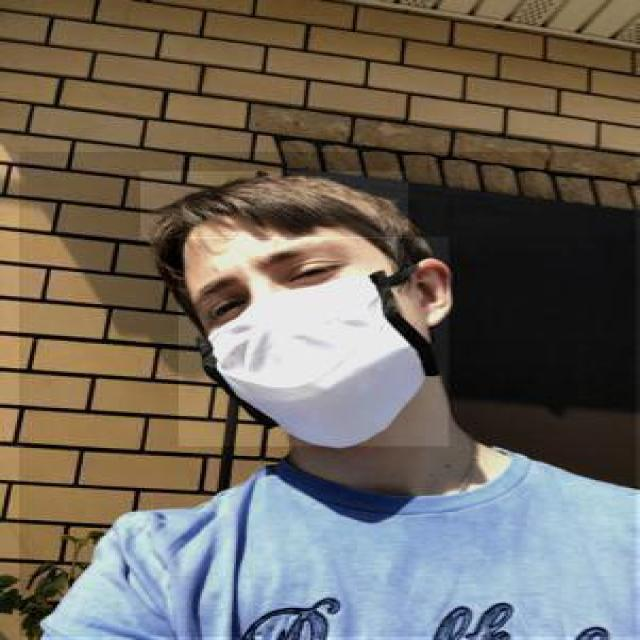face_mask: (178, 237, 448, 446)
head_nohelmet: (140, 172, 408, 238)
person: (19, 152, 638, 638)
